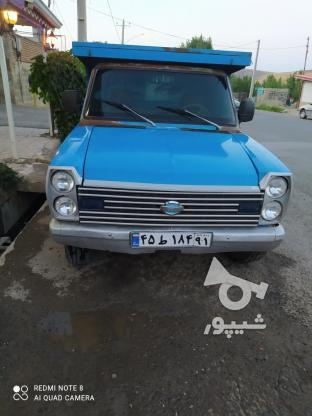car: (128, 232, 212, 249)
